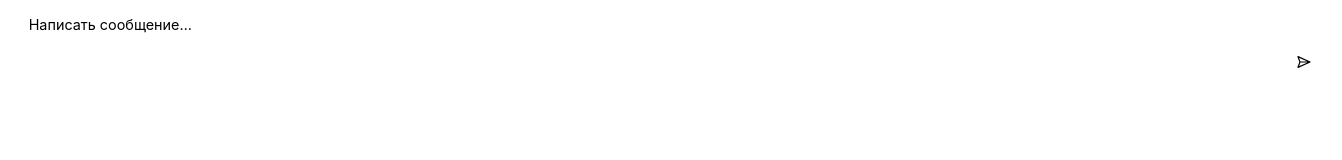
Test case: an unauthorized first delivery reports only to its original room (switched false)
In the text box labelled "Написать сообщение…": [671, 26] box [17,5,1325,47], type "ready to send"
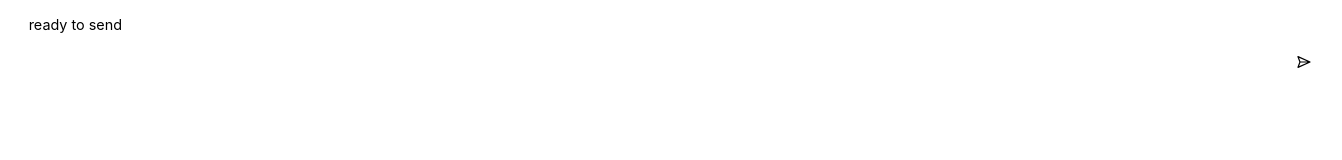
Click the button named "Отправить сообщение": [1304, 62] box [1288,49,1319,75]
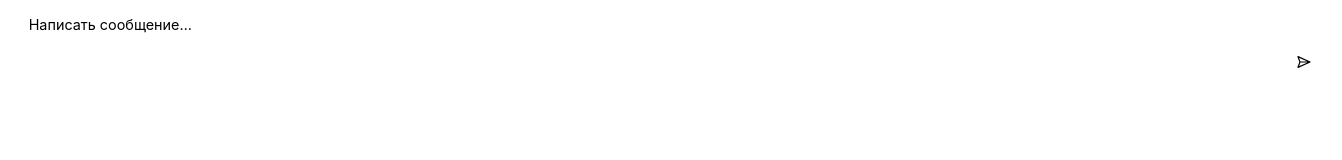
Expected: the text box labelled "Написать сообщение…" is empty, [17,5,1325,47]
